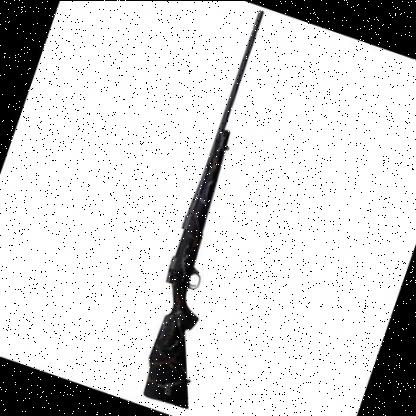rifle: (118, 5, 316, 410)
